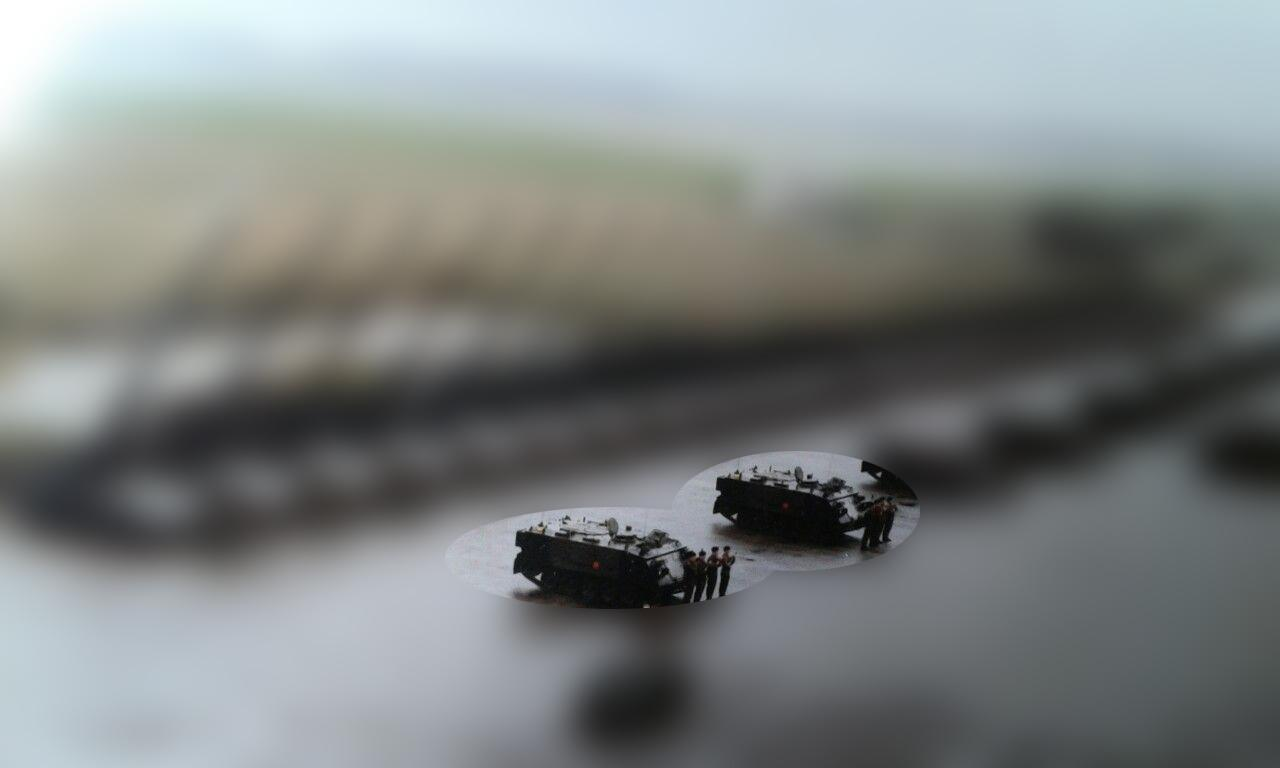armored_car: (510, 516, 708, 610), (706, 467, 888, 544)
